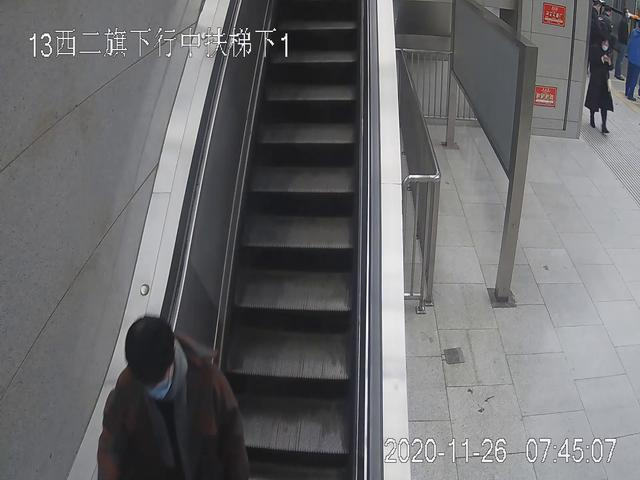person: (99, 315, 250, 480), (584, 37, 615, 134)
